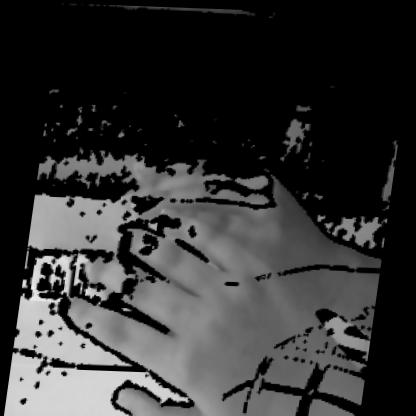dua: (46, 147, 399, 415)
